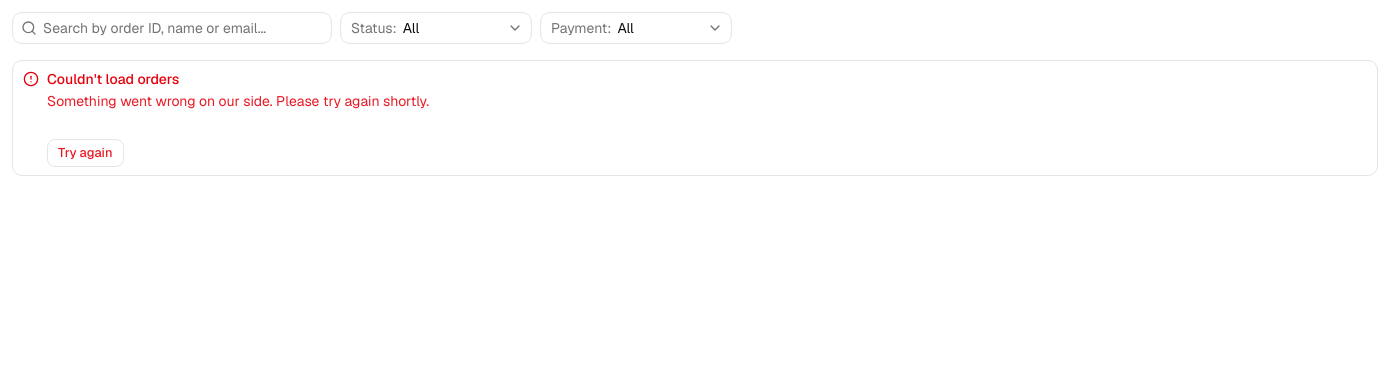
Scenario: OrdersList loading › explains a failed load and retries on request
Expected: the message shows "Couldn't load orders", [12,60,1378,176]
Expected: the message does not show "internal detail", [12,60,1378,176]
Click the button "Try again" at (85, 153), box [47,139,124,167]
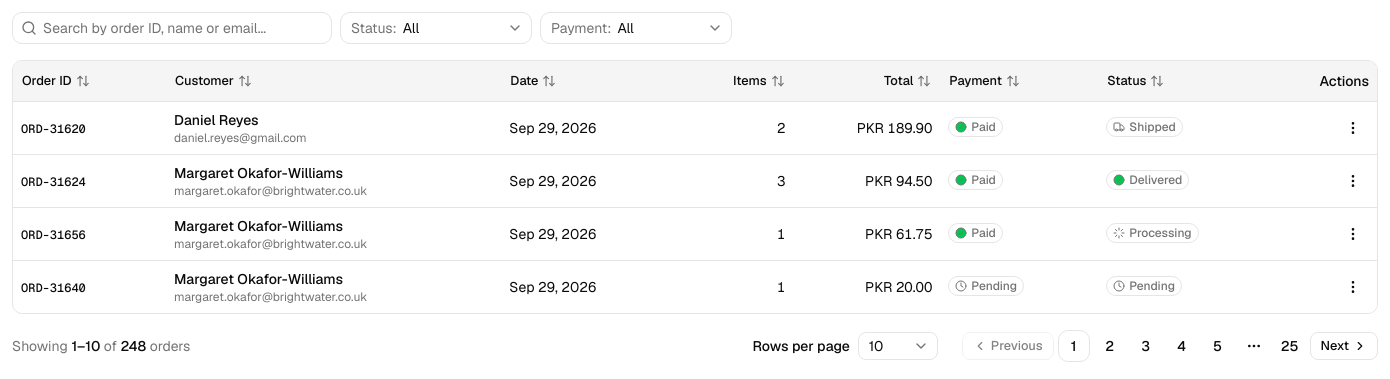
Now the link "ORD-31620" is shown, box [21,120,86,136]
